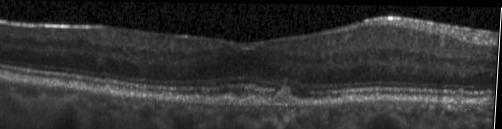retinal_drusen: (276, 88, 293, 103), (242, 96, 260, 104), (100, 86, 112, 95), (218, 97, 232, 104), (179, 96, 184, 103), (261, 99, 265, 105), (269, 98, 273, 103), (294, 98, 298, 103), (231, 101, 234, 105)
